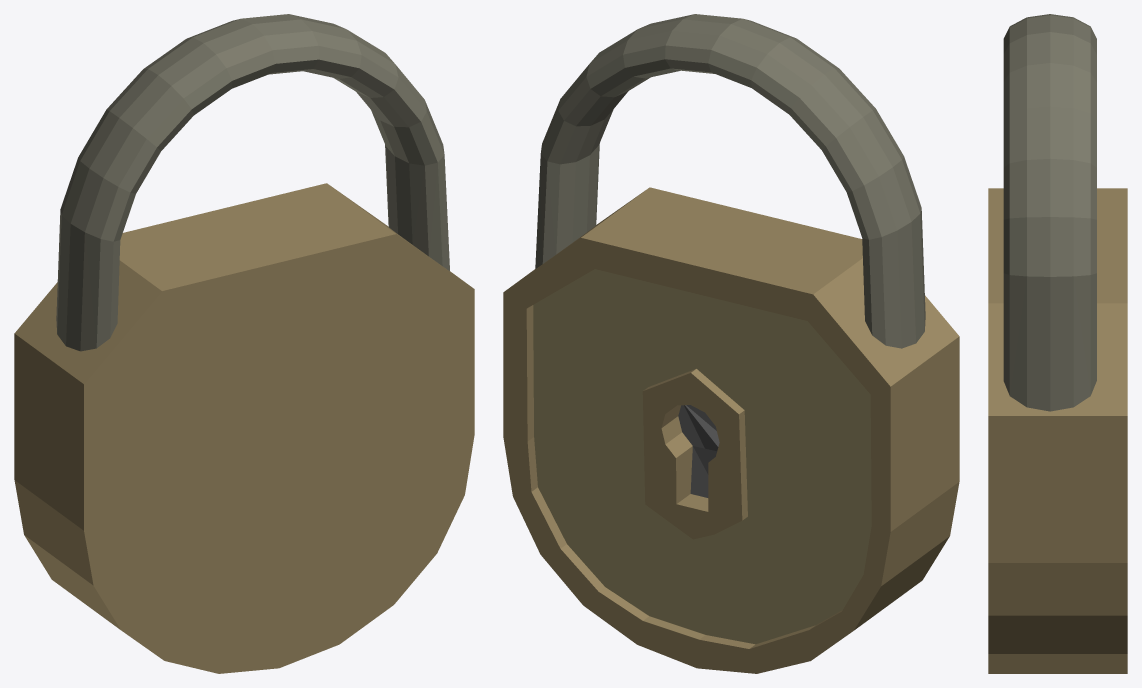
The model's file is Lock.fbx.
The picture shows the model from 3 angles, left to right: view 1: azimuth 30°, elevation 25°; view 2: azimuth 150°, elevation 25°; view 3: azimuth 270°, elevation 25°; orthographic projection.
Visible parts, largest first — view 1: polySurface4; view 2: polySurface4; view 3: polySurface4.
Part boxes in pixels (box(x1,y1,x2,y2)): polySurface4: box(14, 14, 474, 673); polySurface4: box(503, 14, 959, 673); polySurface4: box(988, 14, 1127, 673).
Bounding box in the file's own units: 75.66 × 115 × 23.33.
